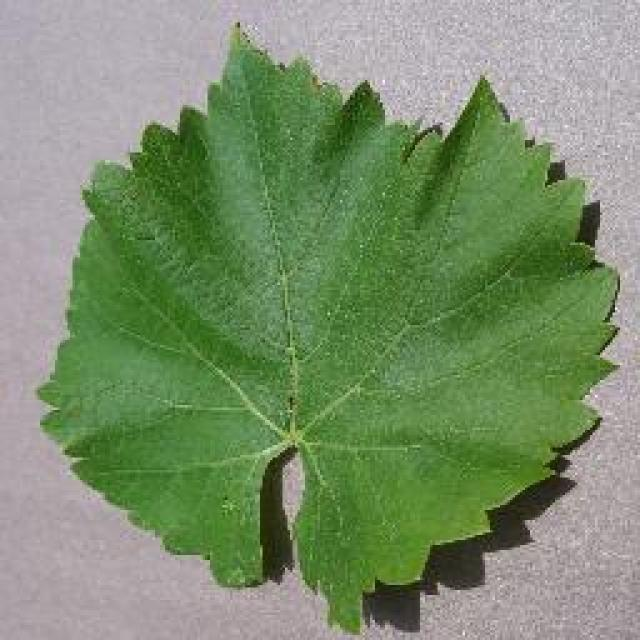Grape___healthy: (40, 28, 618, 628)
